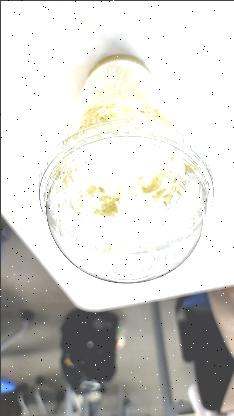Others: (28, 44, 215, 288), (25, 119, 218, 282)
